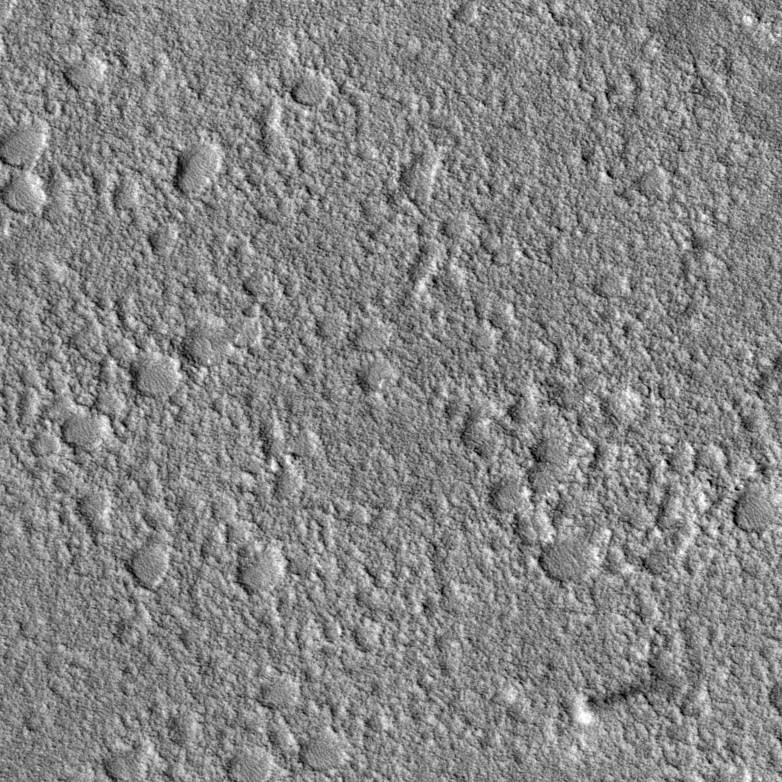dust_devil: (573, 666, 666, 727)
